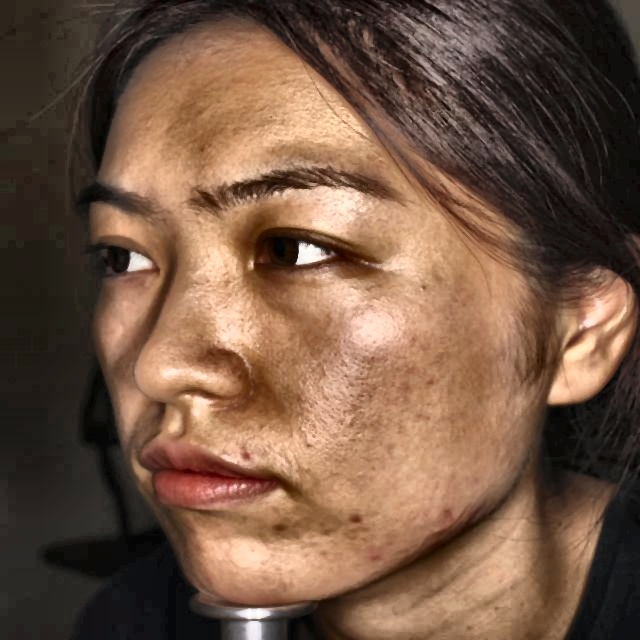pustule: (271, 509, 303, 545), (431, 502, 466, 526), (361, 539, 382, 570), (349, 505, 366, 536)
